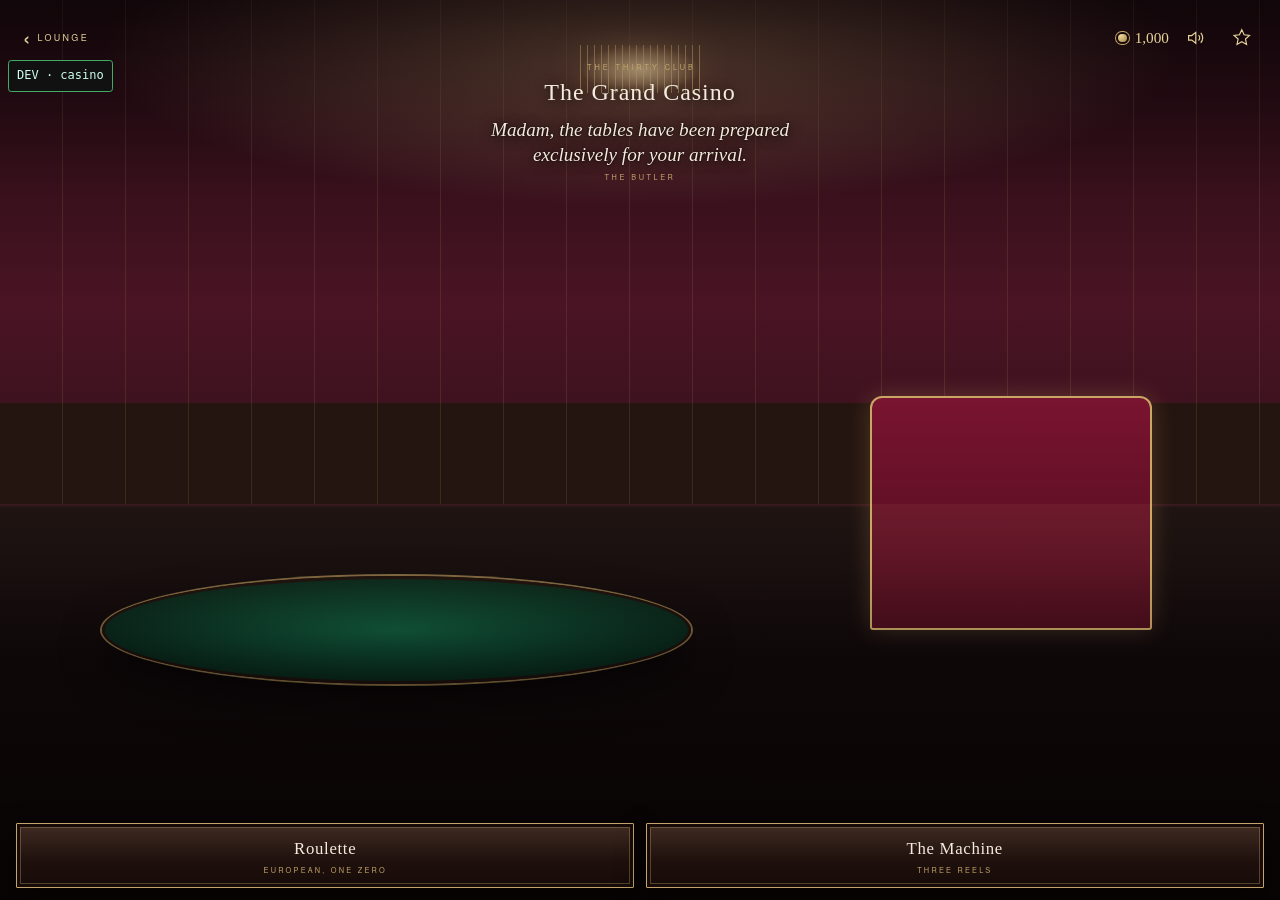
Test: roulette › offers every number from a drawer
What coordinates should you click on to do the following:
click the button "Roulette European, one zero"
I would click on:
 (325, 856)
Its box is [16,823,634,888].
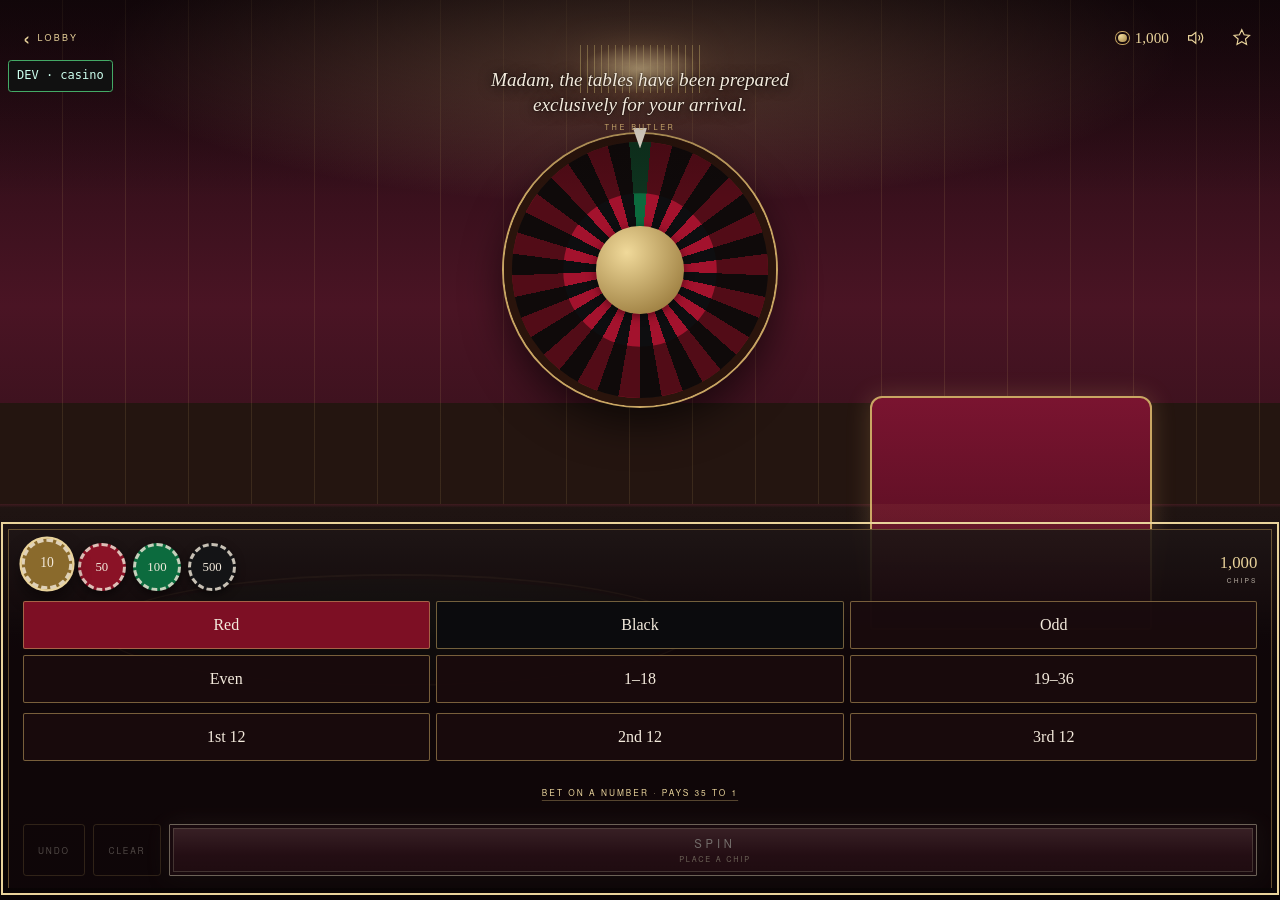
What coordinates should you click on to do the following:
click the button "Bet on a number · pays 35 to 1"
I would click on:
 (640, 792)
Its box is [23,770,1257,814].
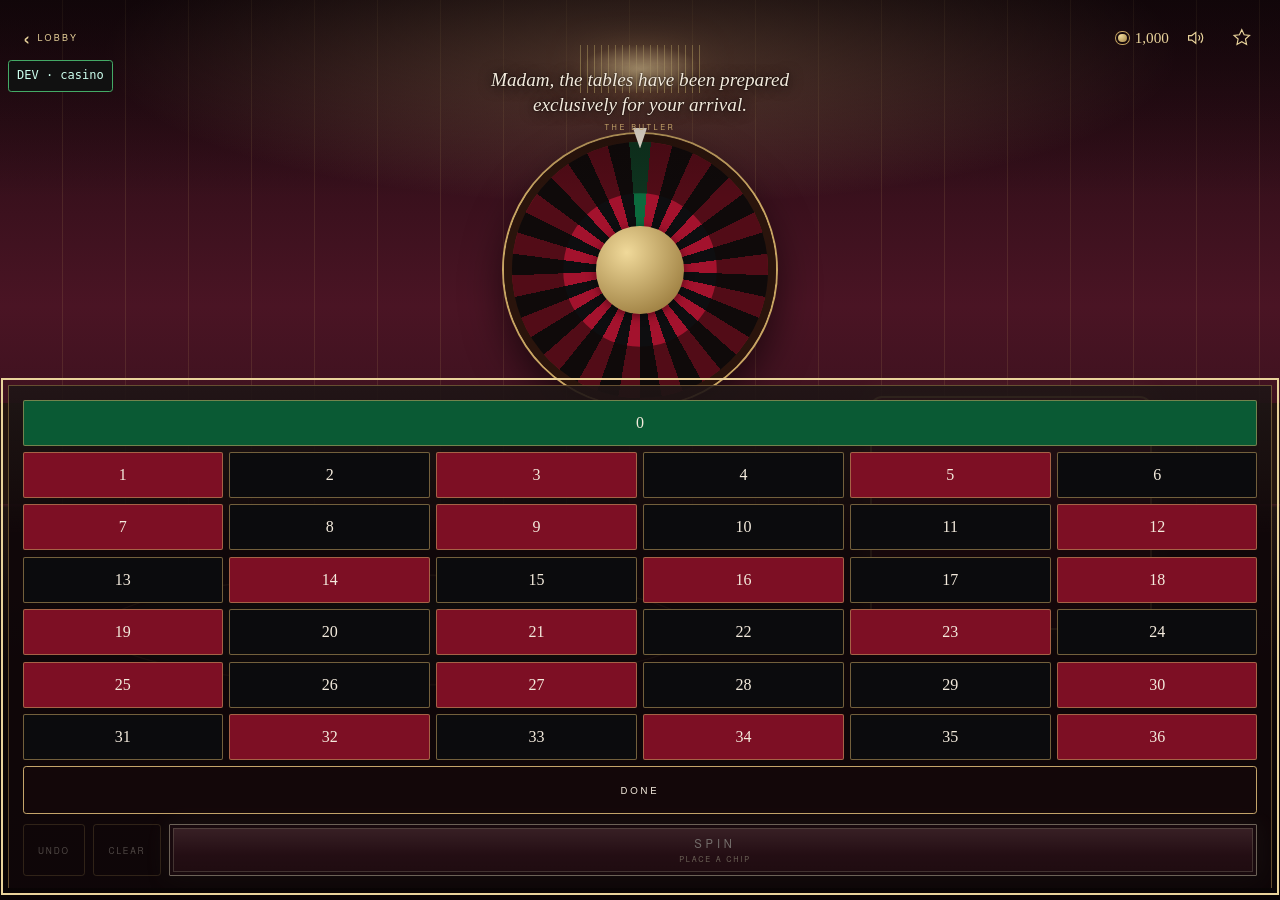
What coordinates should you click on to do the following:
click the button named "Number 17"
I would click on:
 (950, 580)
Its box is [850,557,1051,603].
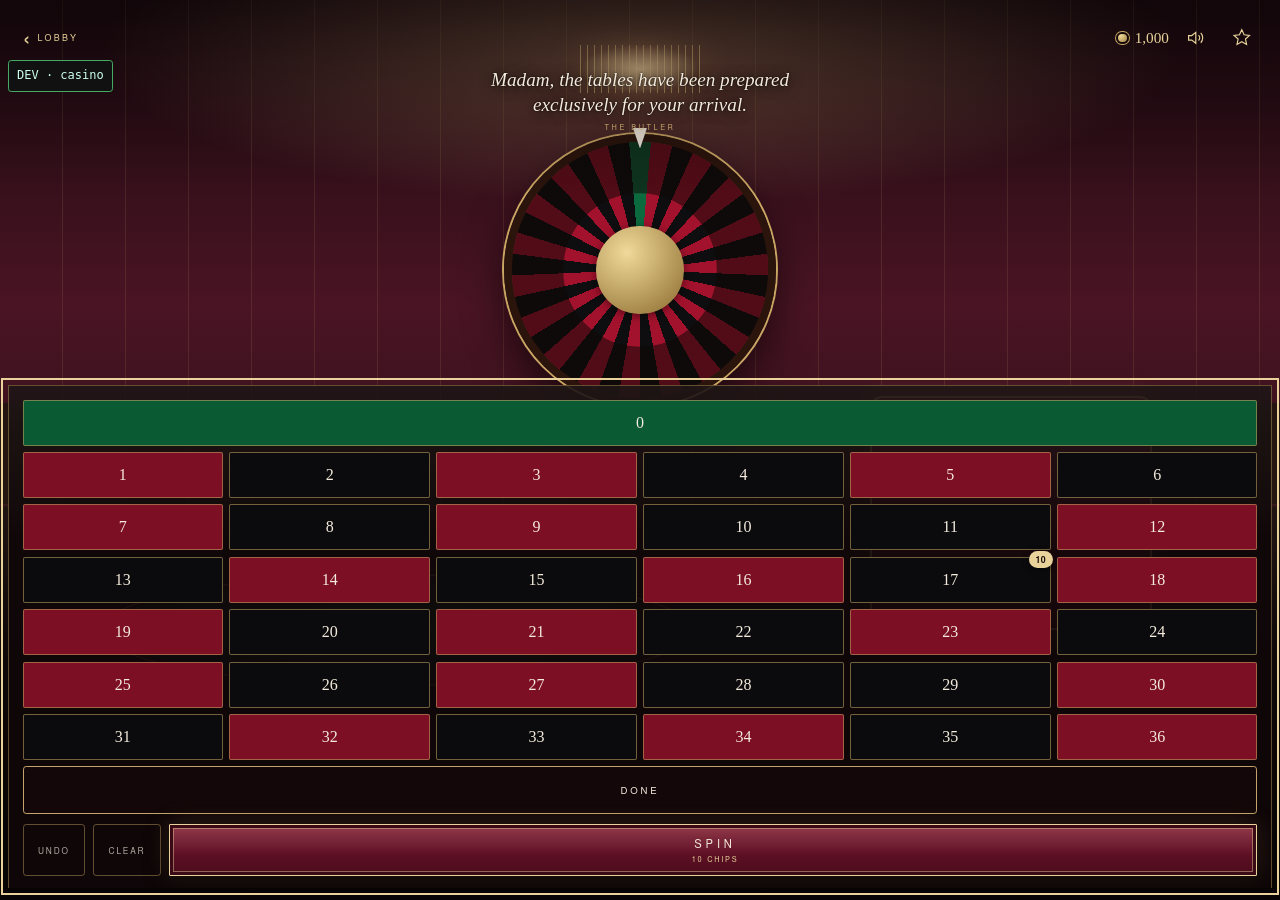
Check: the button named "Number 17, 10 chips placed" is shown, box [850,557,1051,603]
